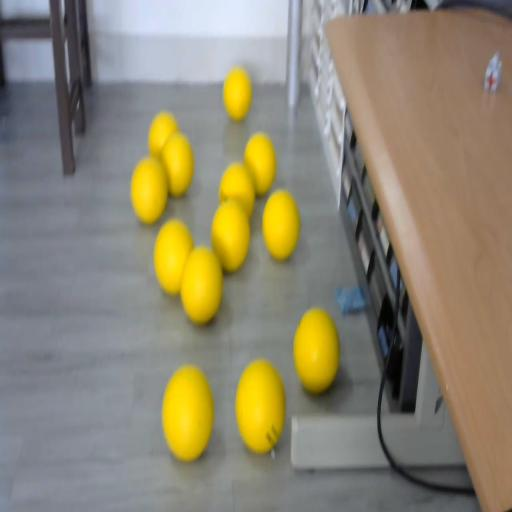FUEL: (161, 363, 214, 459), (234, 357, 287, 452), (292, 304, 340, 395), (153, 218, 194, 294), (210, 199, 252, 272), (262, 189, 300, 260), (130, 156, 168, 224), (161, 131, 195, 197), (243, 133, 277, 195), (222, 66, 252, 120)
